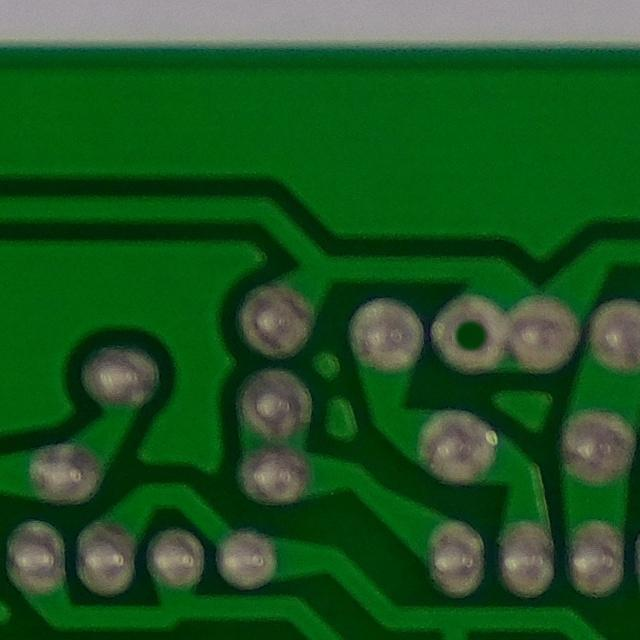missing_hole: (428, 291, 514, 374)
